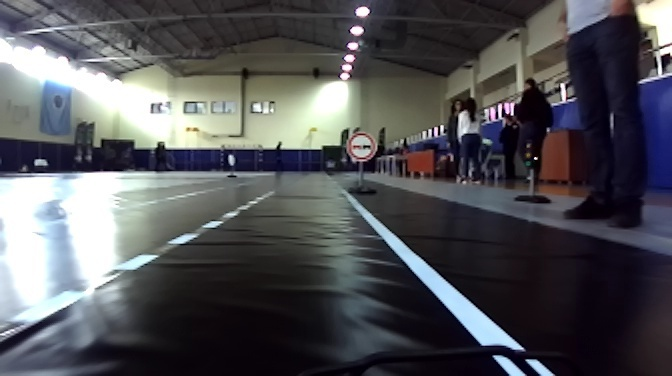sollama_yasak: (343, 131, 376, 162)
